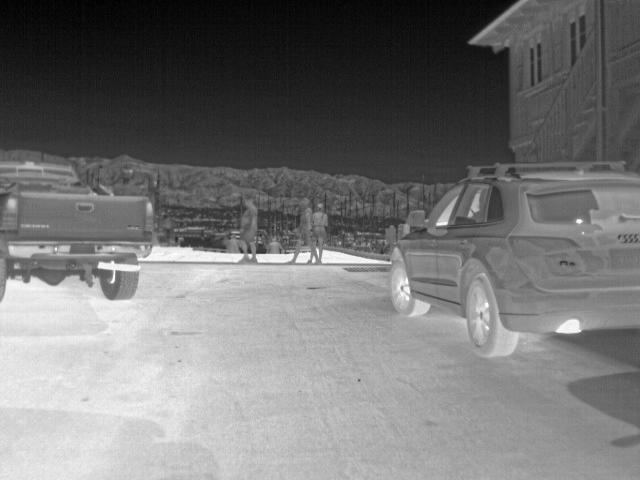car: (383, 156, 637, 358), (0, 158, 159, 301)
person: (283, 199, 322, 263), (237, 197, 261, 263), (312, 202, 329, 264)
